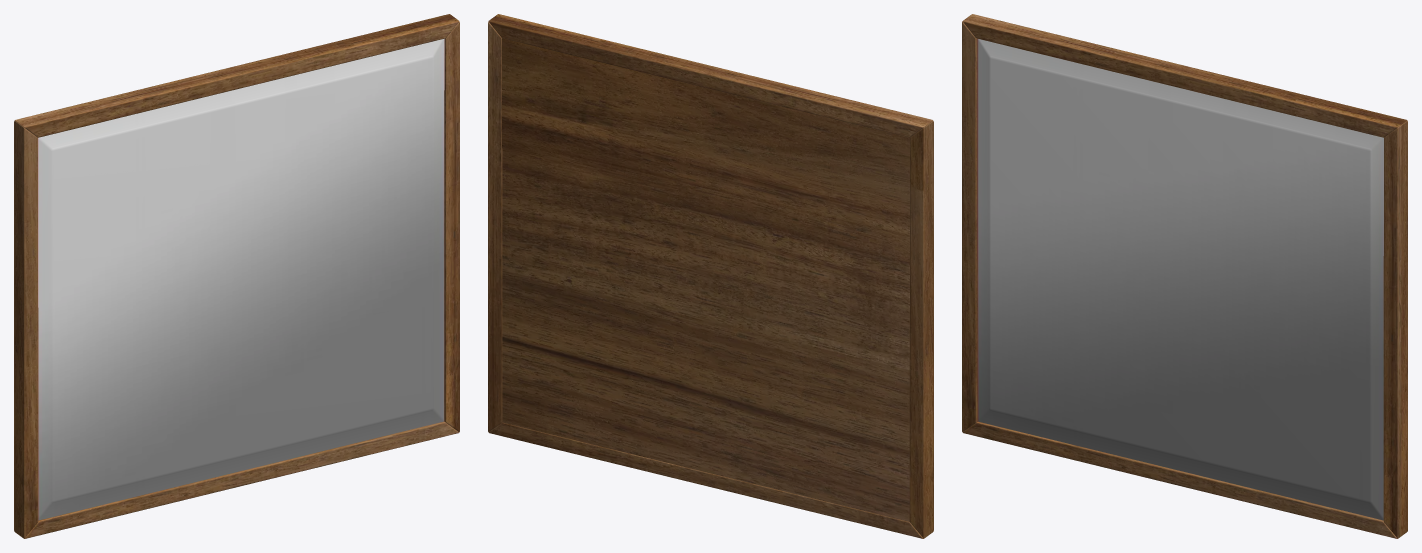
The model's file is abo-B07B4Z2KMN.glb.
3 renders of one model, left to right at view 1: azimuth 30°, elevation 25°; view 2: azimuth 150°, elevation 25°; view 3: azimuth 330°, elevation 25°, orthographic.
Bounding box in the file's own units: 1.04 × 0.94 × 0.043.
Materials: 1 (1 with a texture image).
